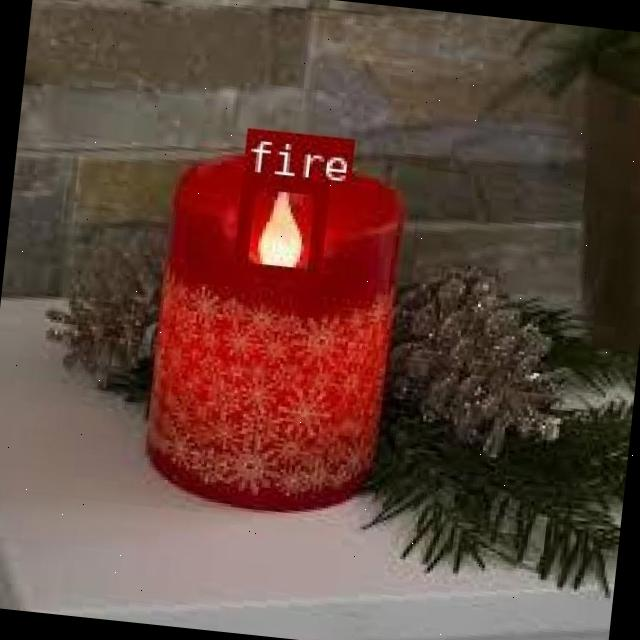fire: (230, 173, 326, 281)
